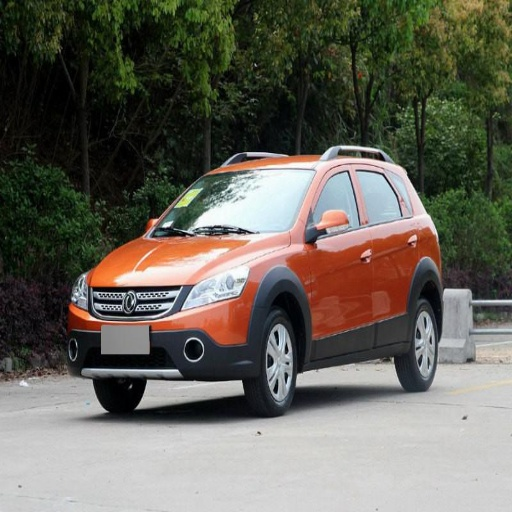front_bumper: (67, 285, 256, 380)
front_glass: (150, 168, 313, 236)
front_left_door: (304, 165, 375, 354)
